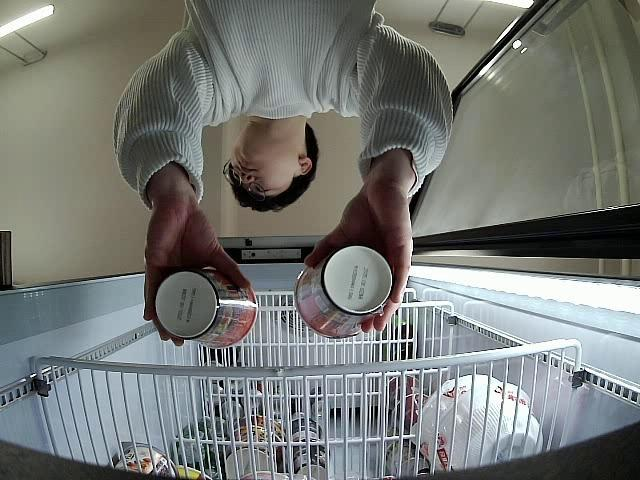02_shinRamen_S: (293, 245, 397, 340), (152, 266, 259, 347)
